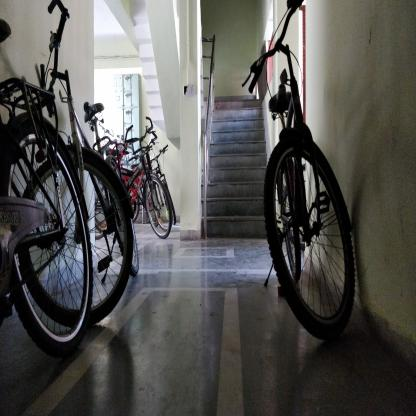stairs: (218, 99, 259, 244)
